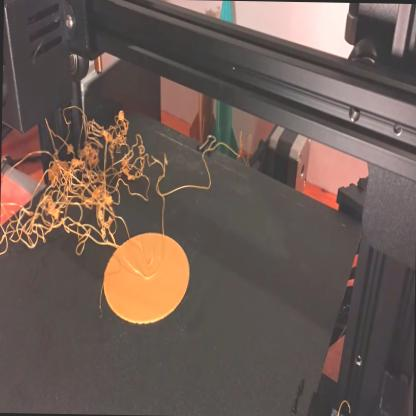fail: (1, 88, 167, 264)
